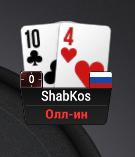10c: (21, 26, 57, 88)
4h: (58, 23, 111, 87)
